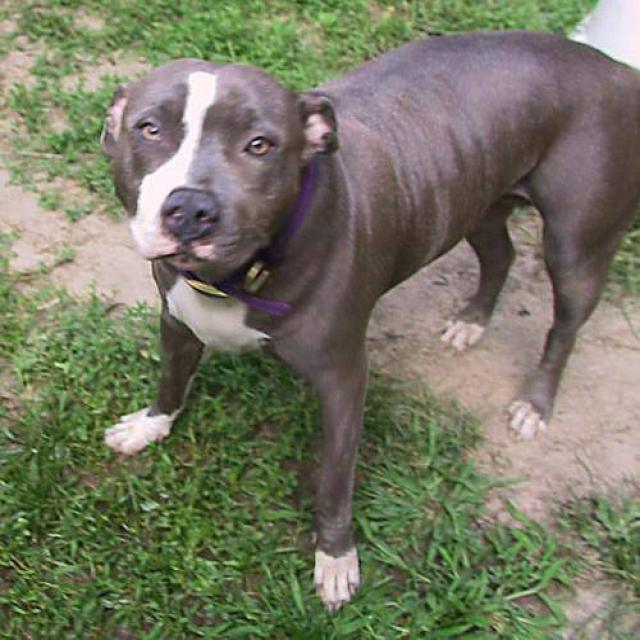dog: (97, 27, 639, 613)
